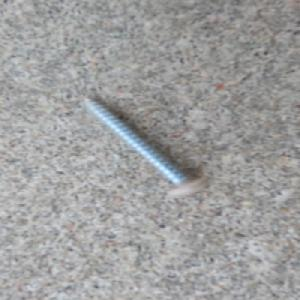Screw: (77, 95, 210, 201)
